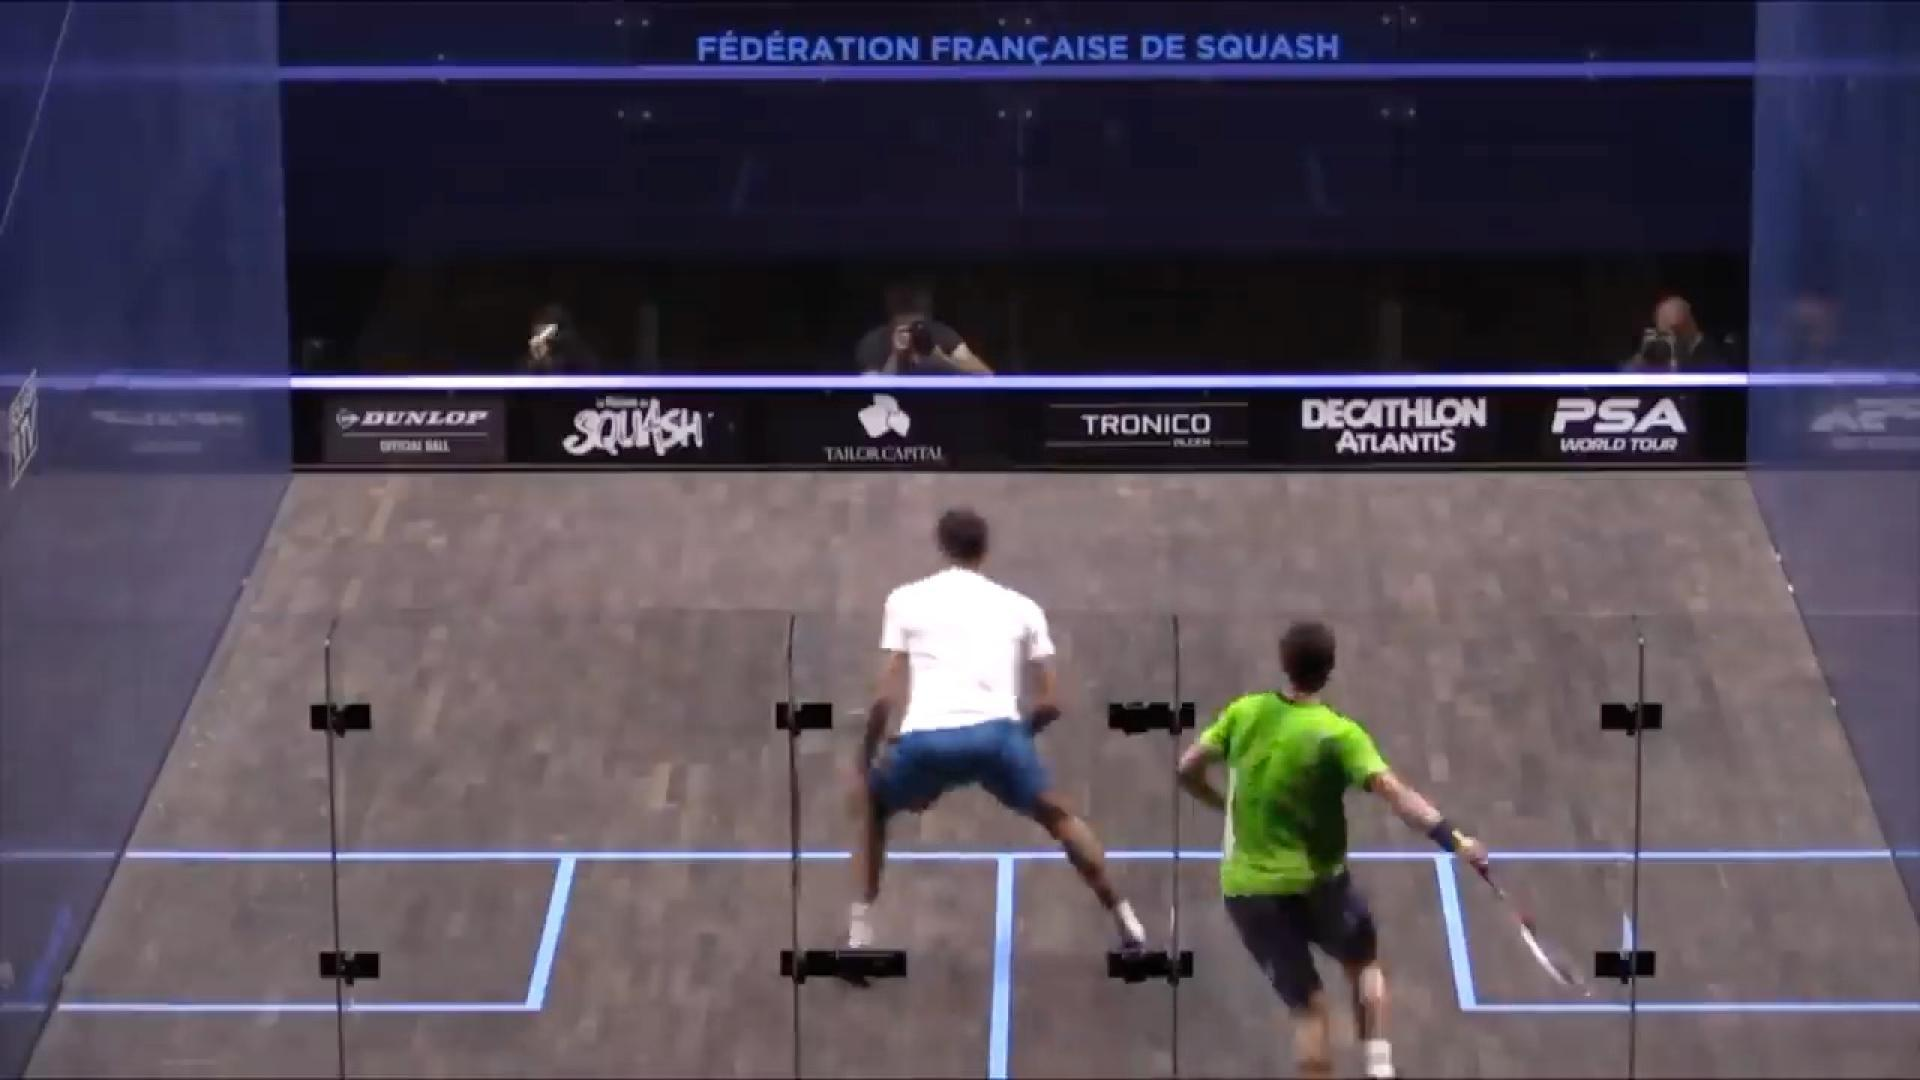Squash-Ball: (527, 315, 566, 365)
